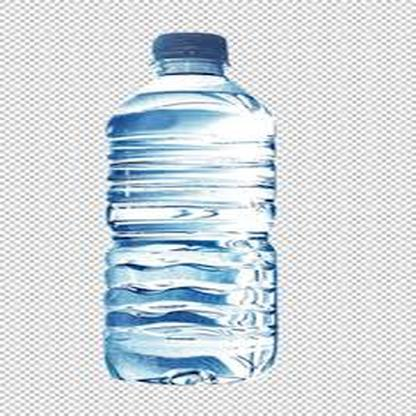plastic bottle: (103, 32, 278, 384)
